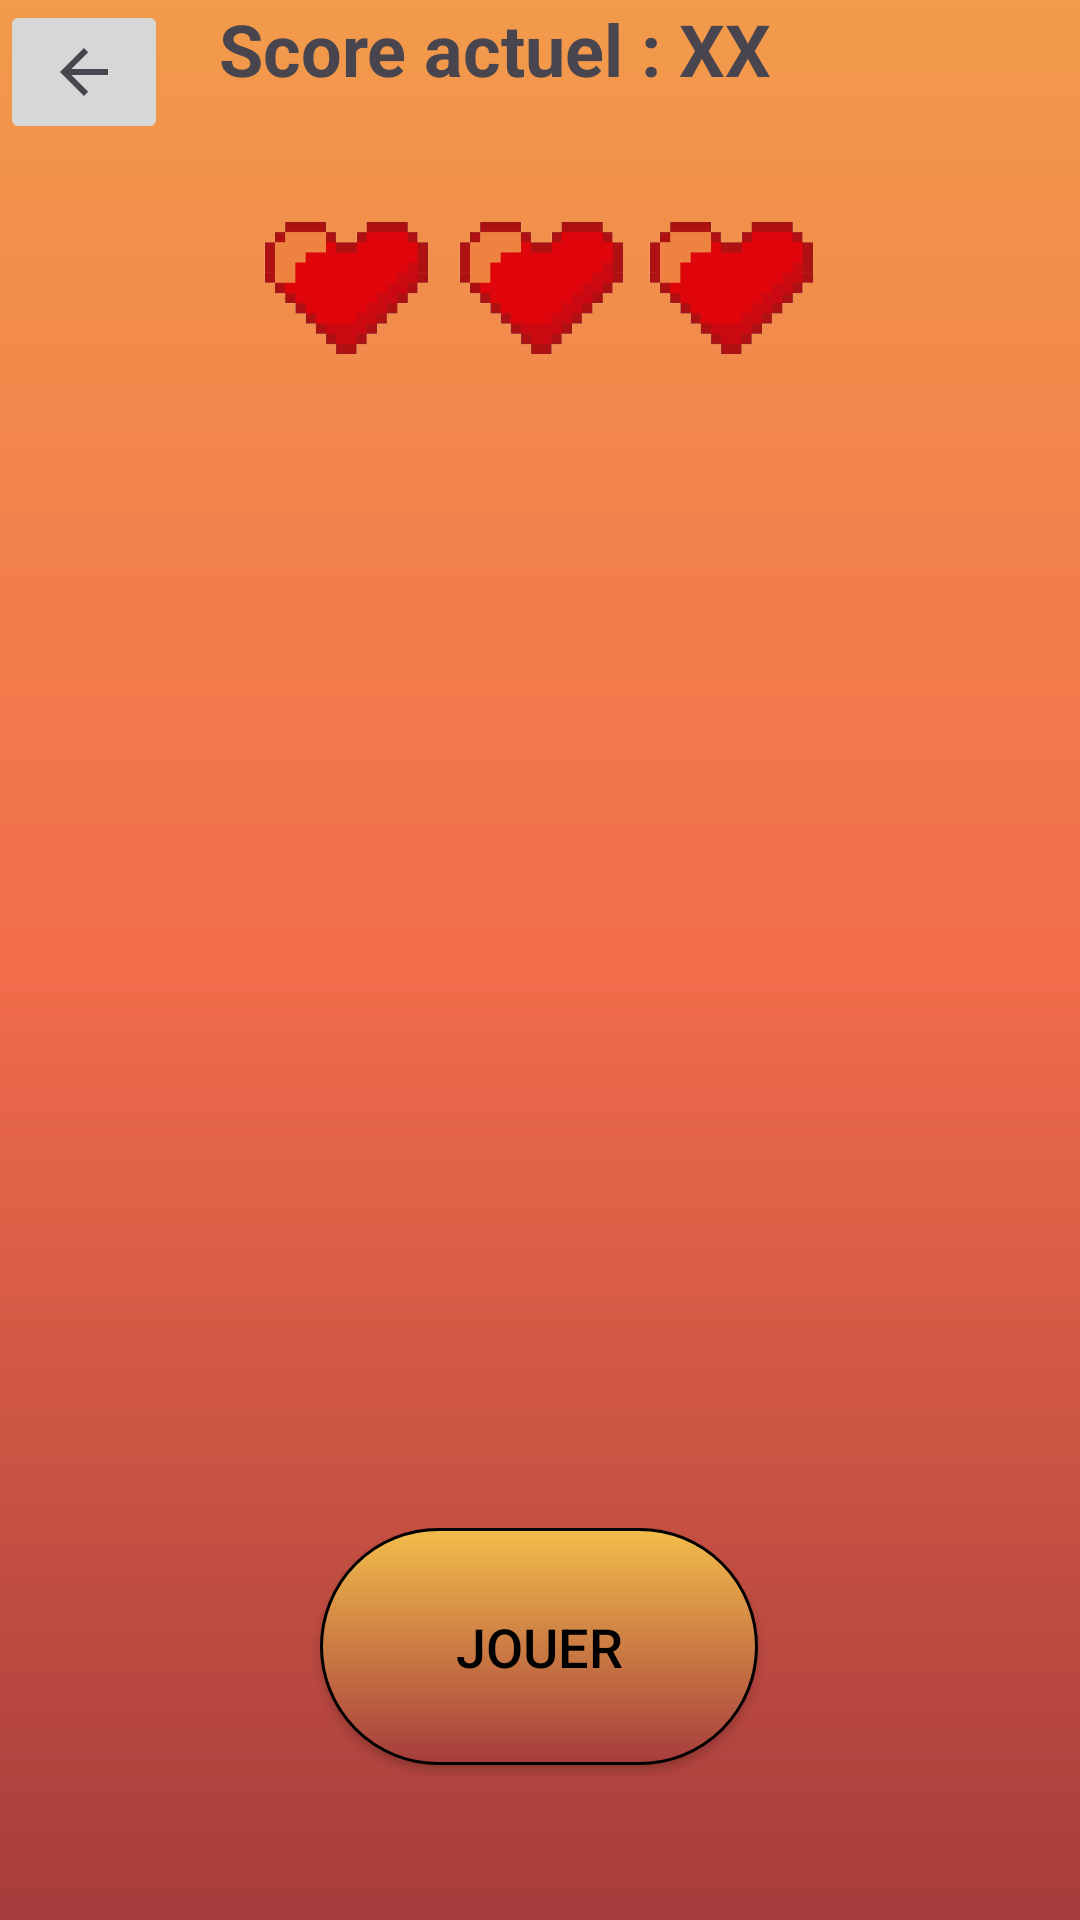

Locate icon controls on the screen. Image size 1080px×1920px, boxes as box(x1, y1, x2, y2).
heart: box(264, 222, 428, 354), box(459, 222, 623, 354), box(649, 222, 813, 354)
Retour Menu: box(12, 18, 156, 126)
